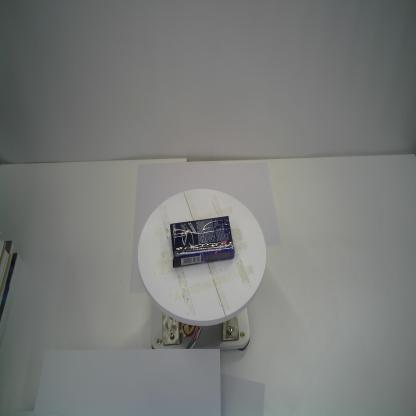Gum: (170, 216, 235, 268)
